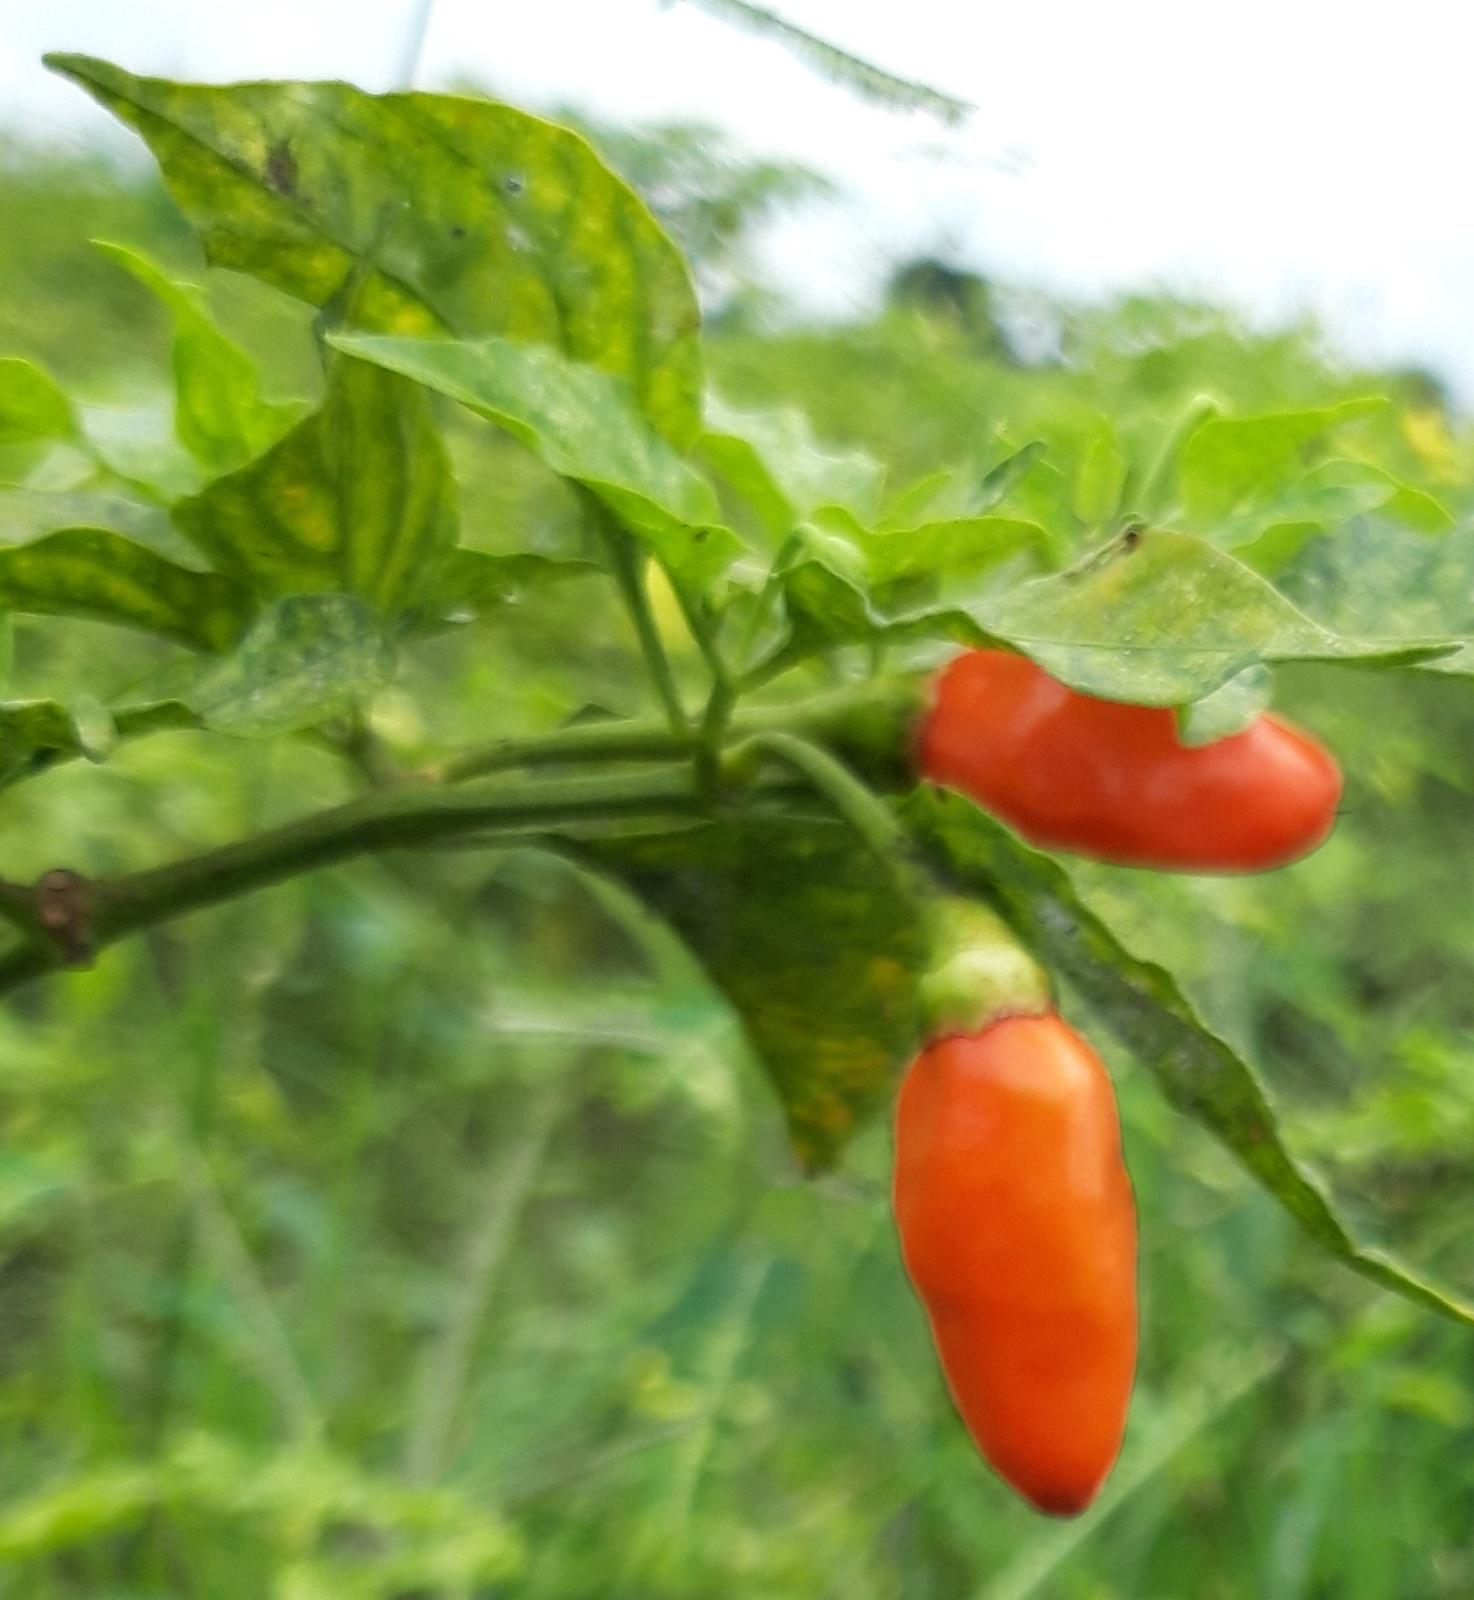cabai_normal: (885, 1002, 1138, 1509), (911, 640, 1342, 871)
